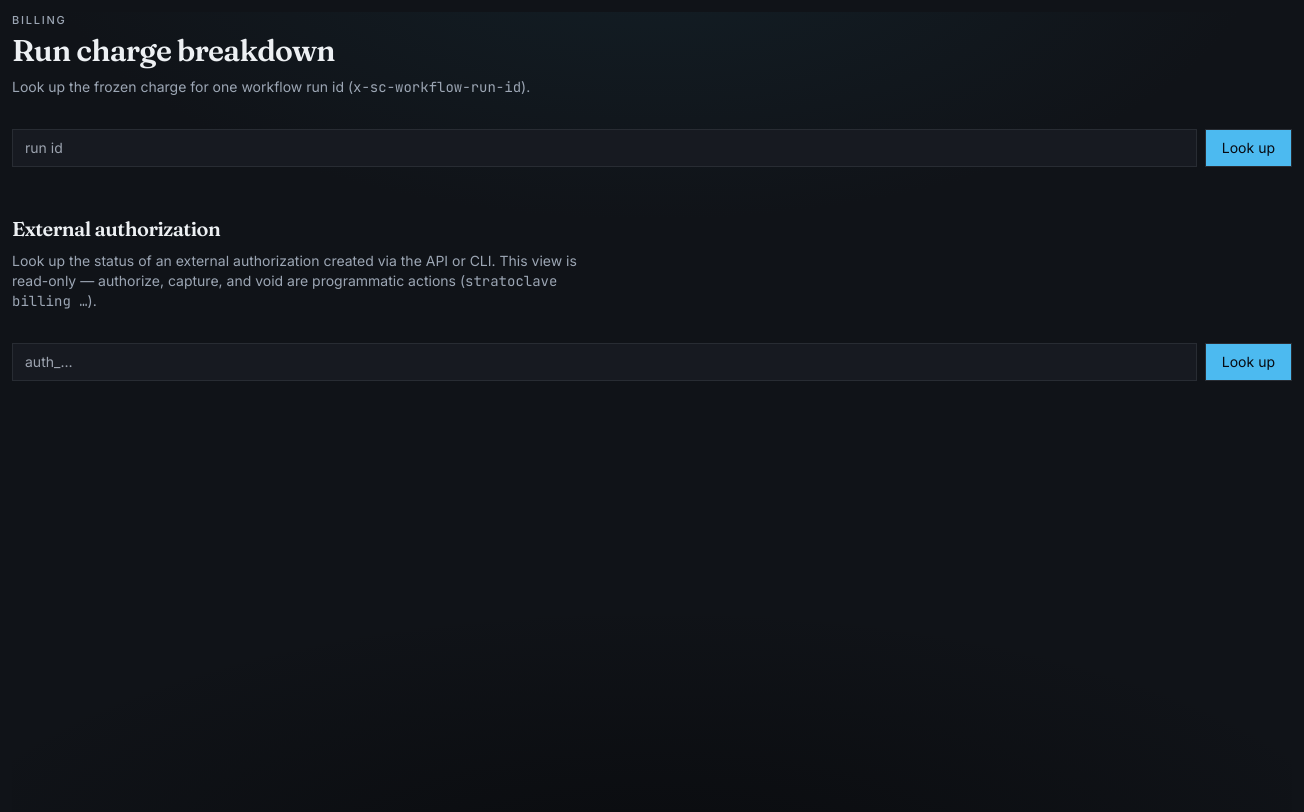
Test case: MeBilling — authorization lookup error handling (authcap / PENDING protocol) › renders status=captured from a successful lookup
Type "auth_abc" into the field named "authorization id".
click(604, 362); type("auth_abc")  # box [12,342,1197,380]
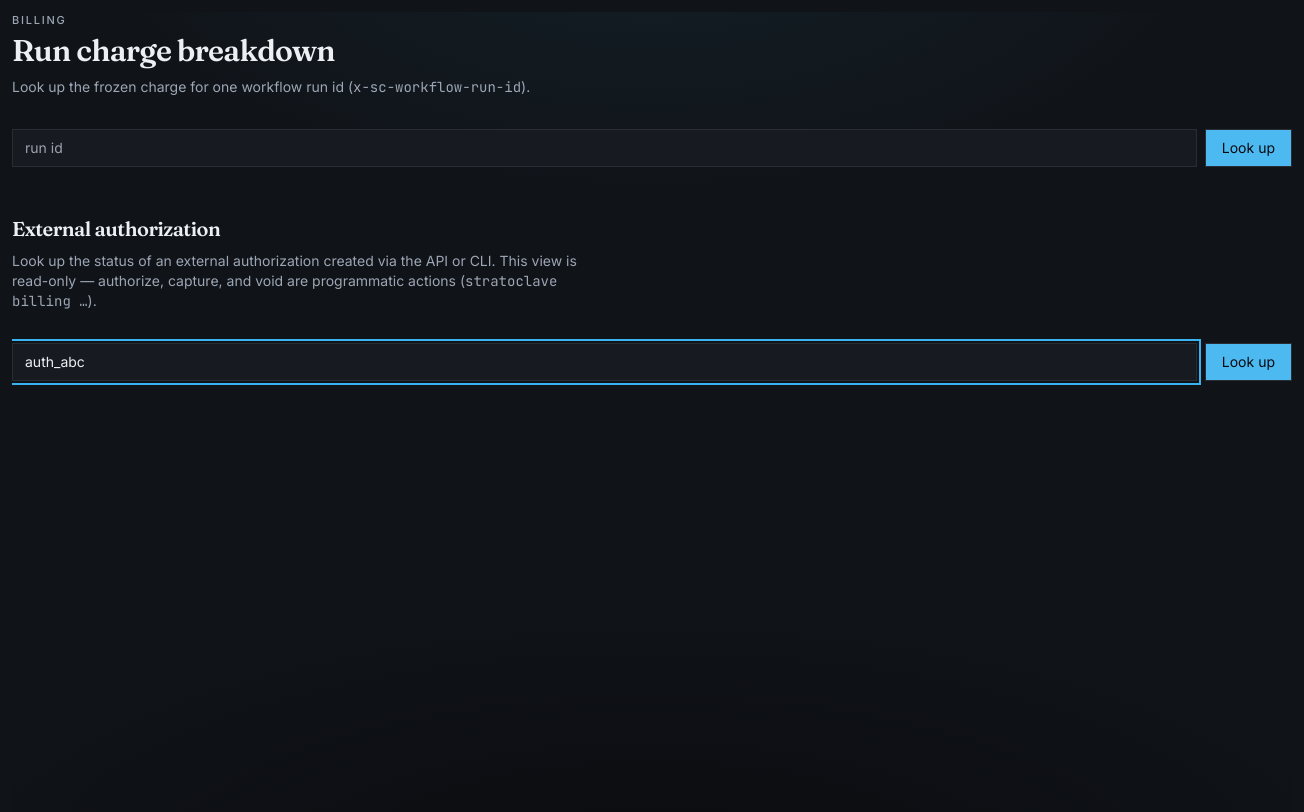
Click the 2nd button "Look up".
click(1248, 362)  # box [1205,342,1292,380]
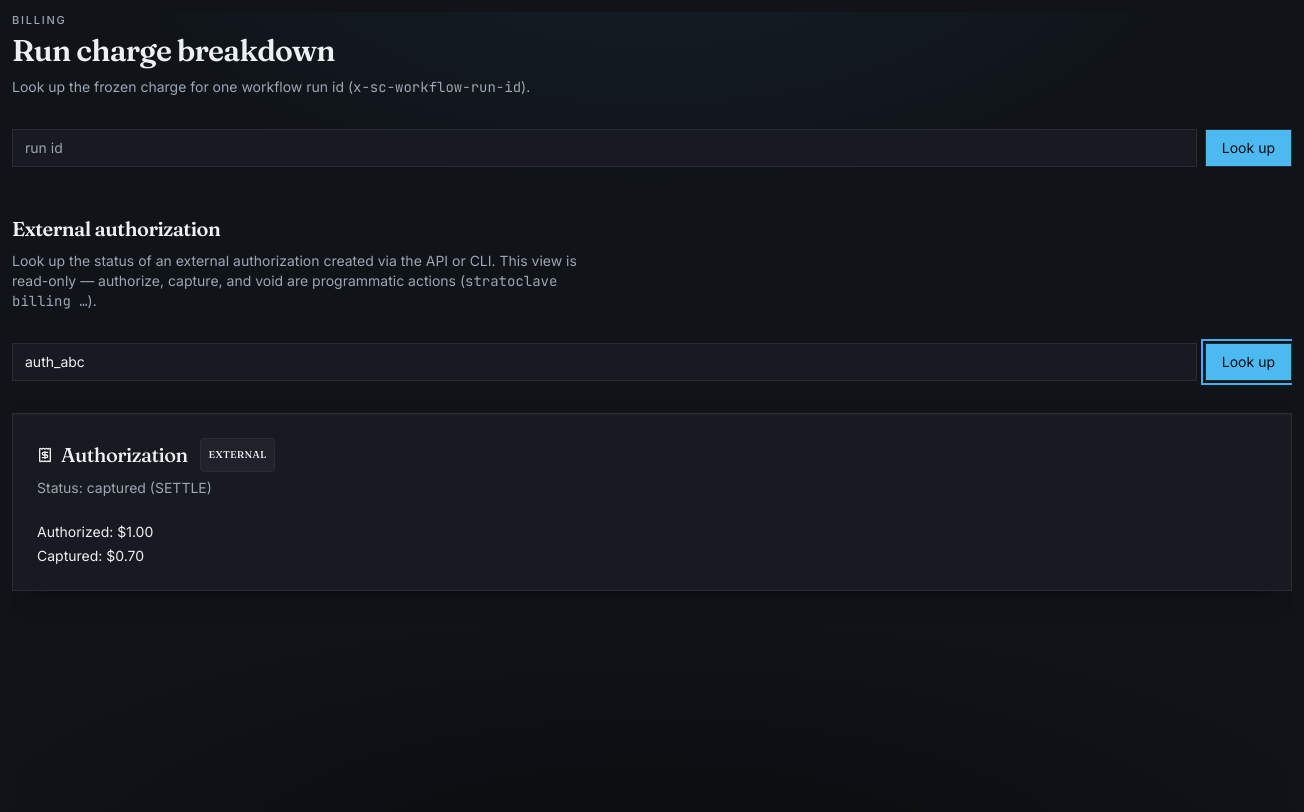
Now the text with test id "authorization-status" shows "captured", box [87,478,146,496]
Now the text with test id "authorization-status" shows "SETTLE", box [146,478,212,496]
Now the text "$0.70" is shown, box [106,546,144,564]
